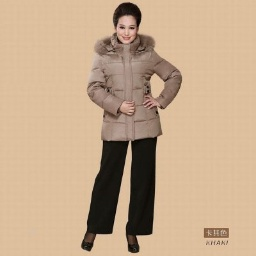face: (112, 2, 145, 47)
